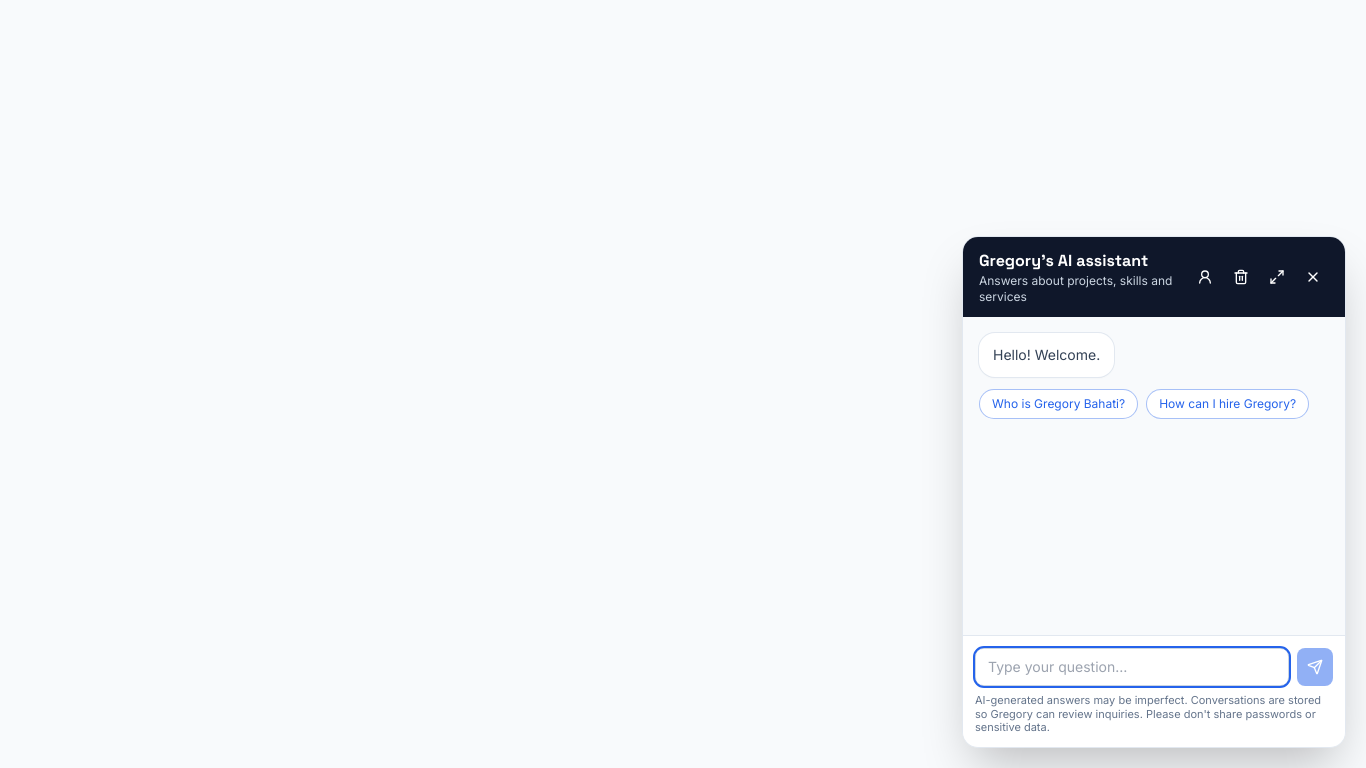
Test: submits an inquiry linked to the chat session and shows the backend reference
Earlier steps of the test are not shown.
Type "I need a system" into the field named "your message" at (1132, 667), box [975, 648, 1289, 686]
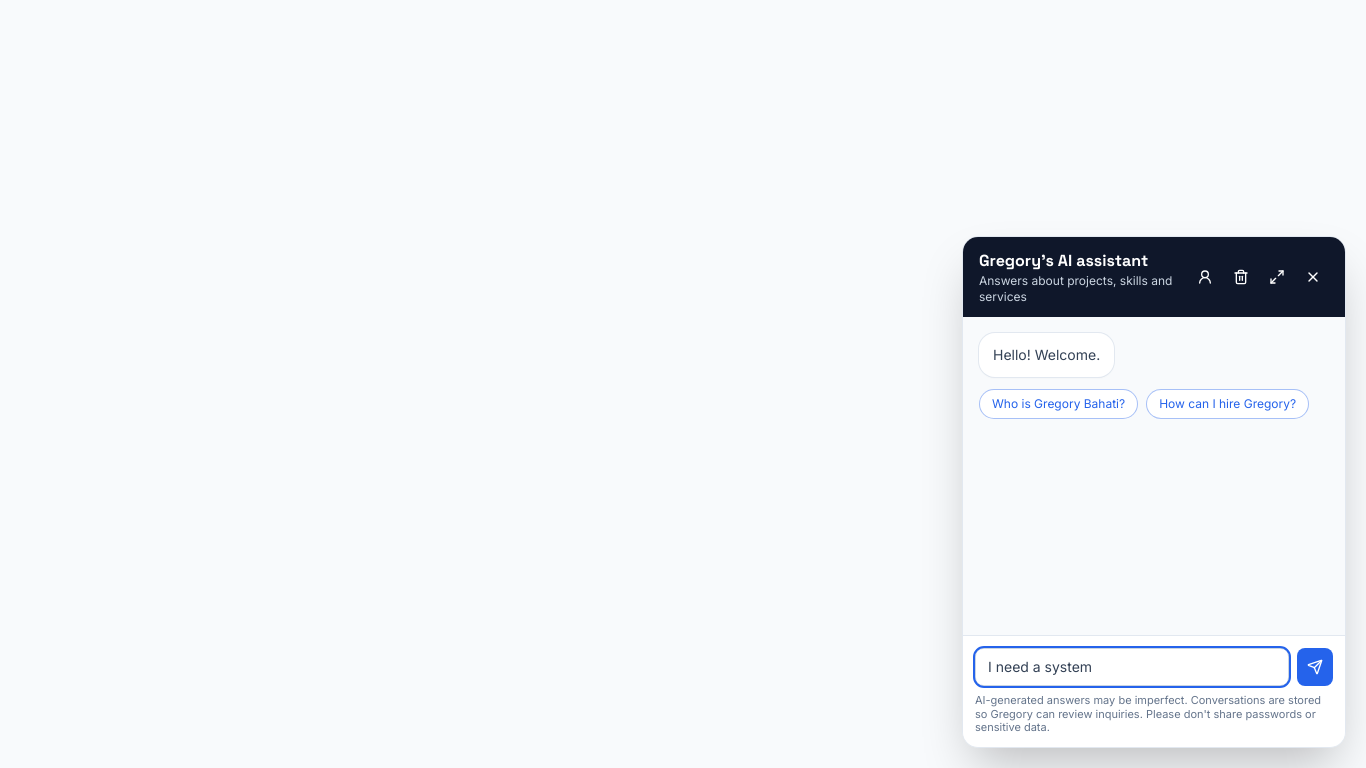
Click the button named "send message" at (1315, 667), box [1297, 648, 1333, 686]
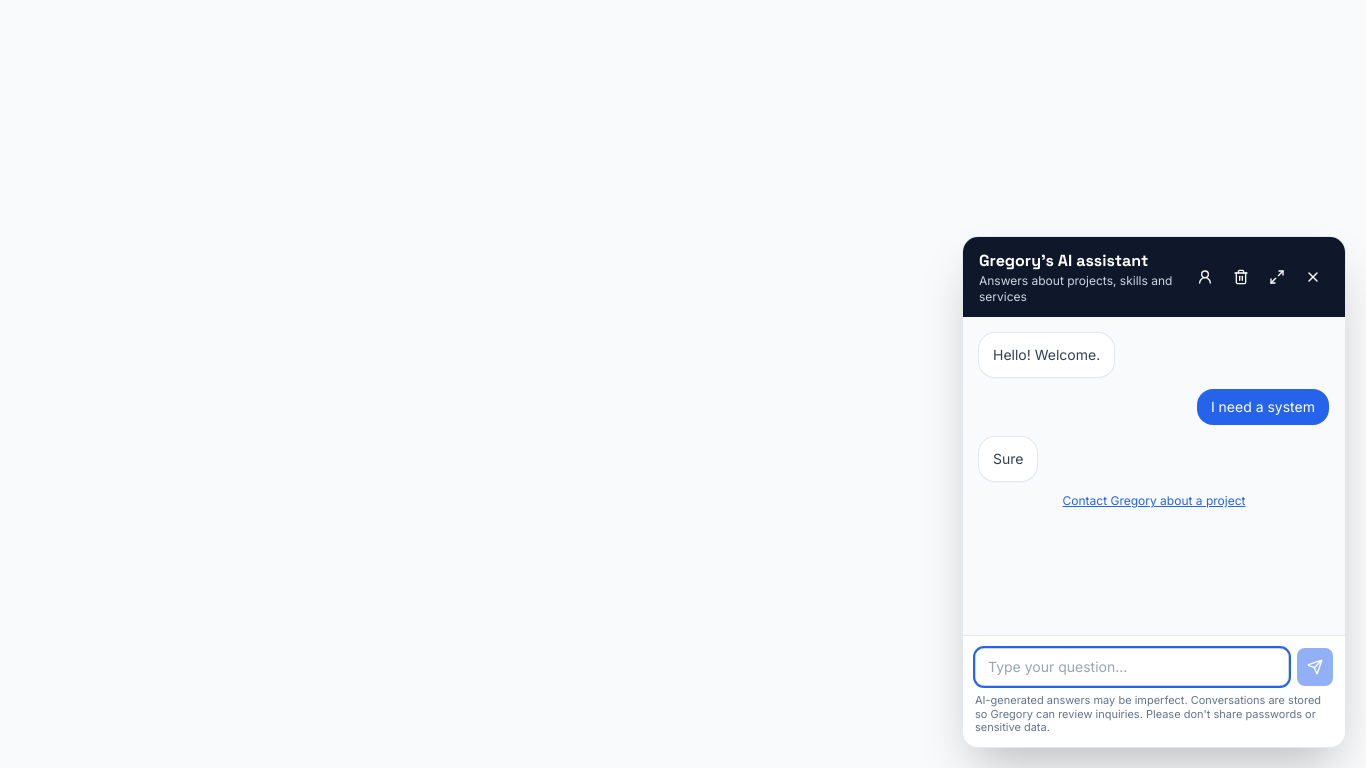
Expected: the text "Sure" is shown, [993, 449, 1024, 469]
Click the button named "contact gregory" at (1205, 277), box [1189, 261, 1221, 293]
(page scrolled)
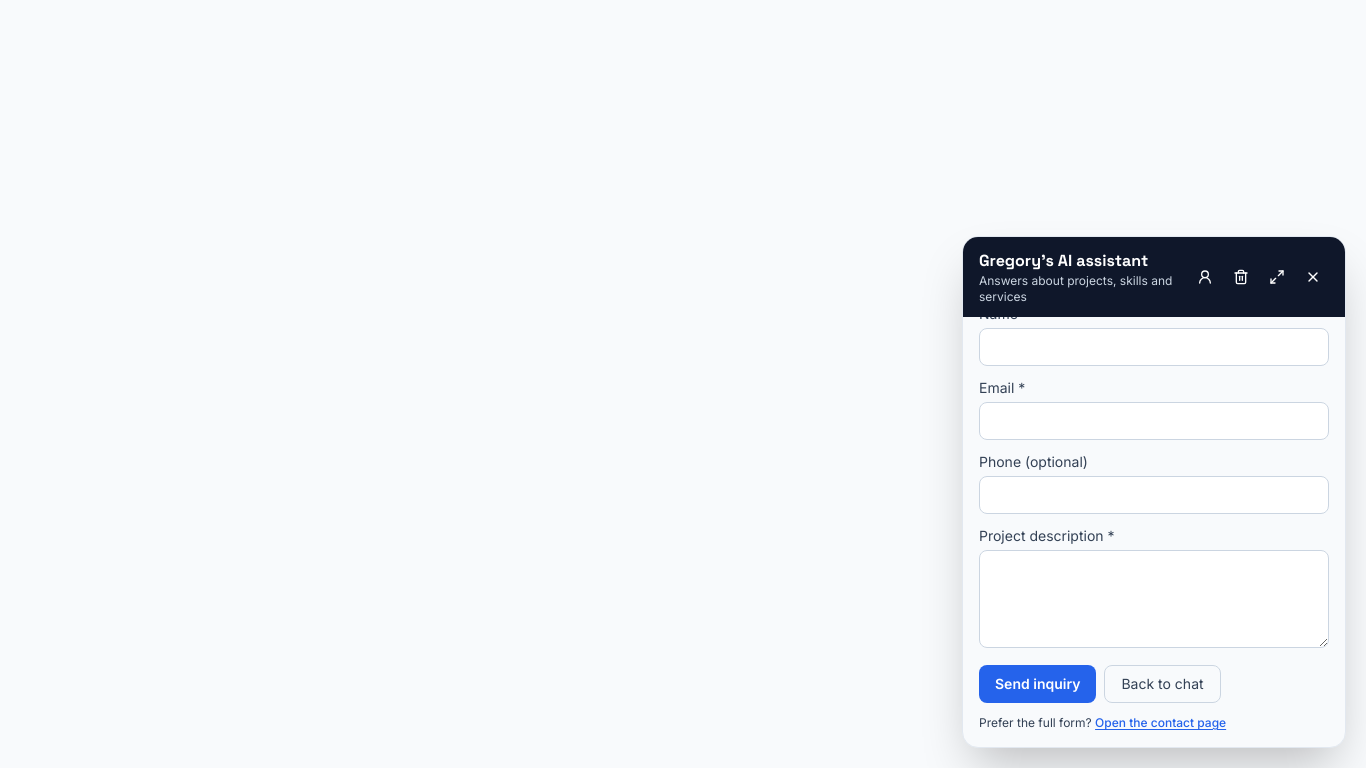
Click the button "Send inquiry" at (1038, 684), box [979, 665, 1096, 703]
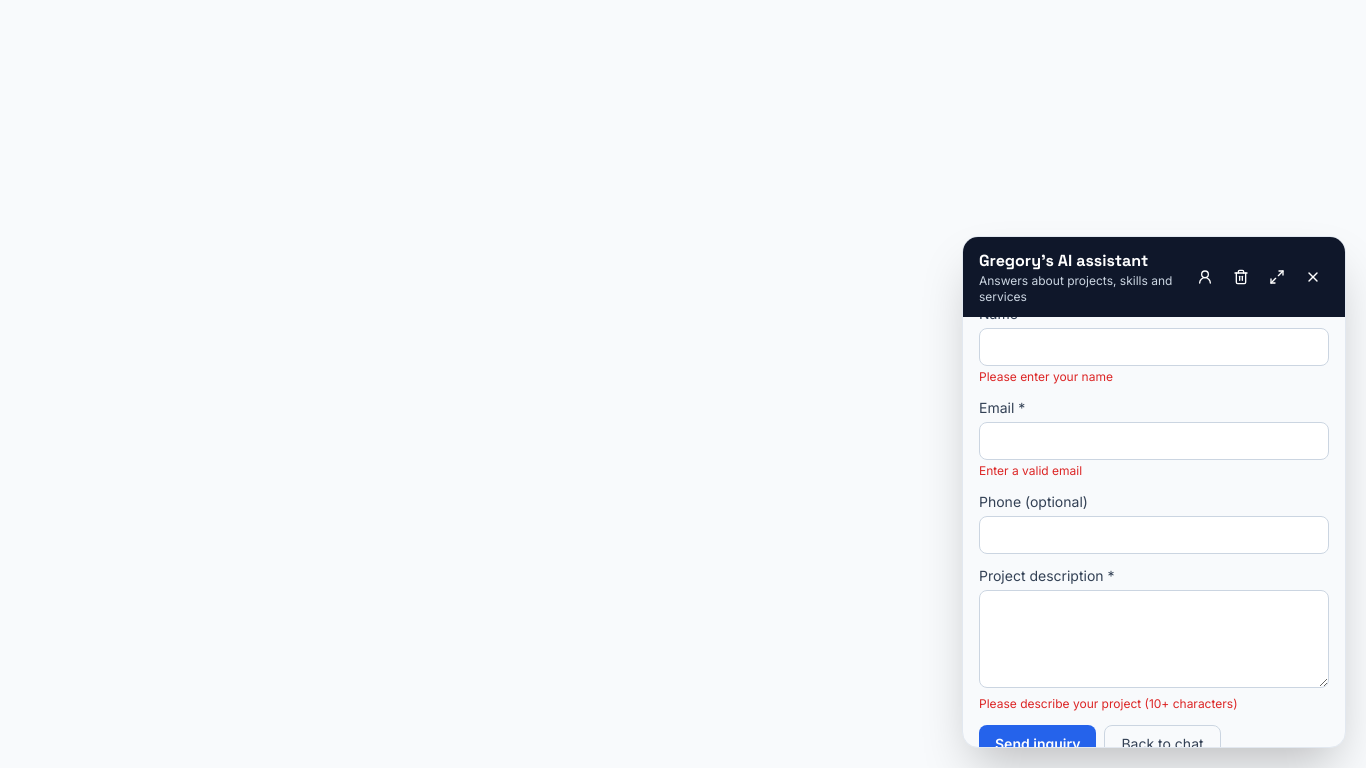
Expected: the text "Please enter your name" is shown, [979, 369, 1113, 384]
Type "Amina Juma" into the field labelled "Name * Please enter your name" at (1154, 347), box [979, 328, 1329, 366]
Type "a@example.com" into the field labelled "Email * Enter a valid email" at (1154, 441), box [979, 422, 1329, 460]
Type "Inventory system for my shop" into the text box labelled "Project description" at (1154, 639), box [979, 590, 1329, 688]
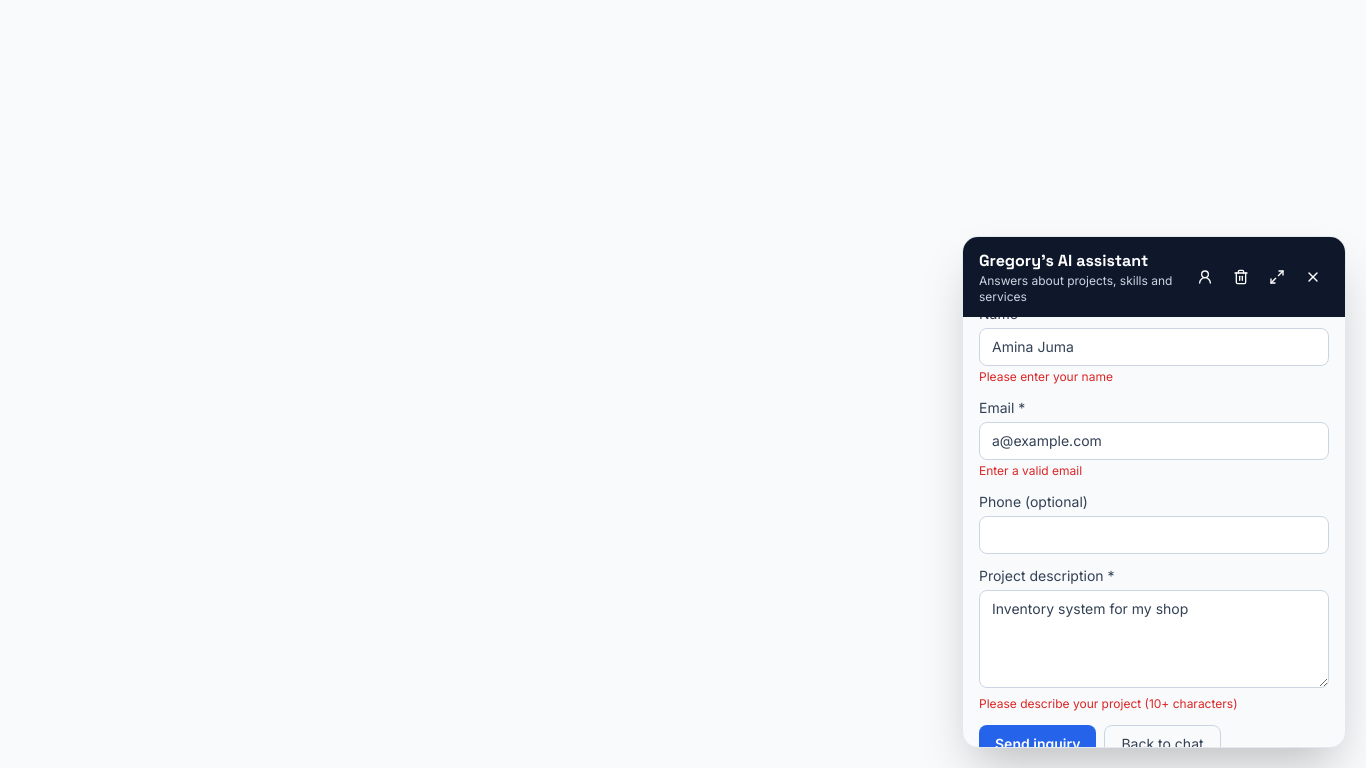
Click the button "Send inquiry" at (1038, 744), box [979, 725, 1096, 763]
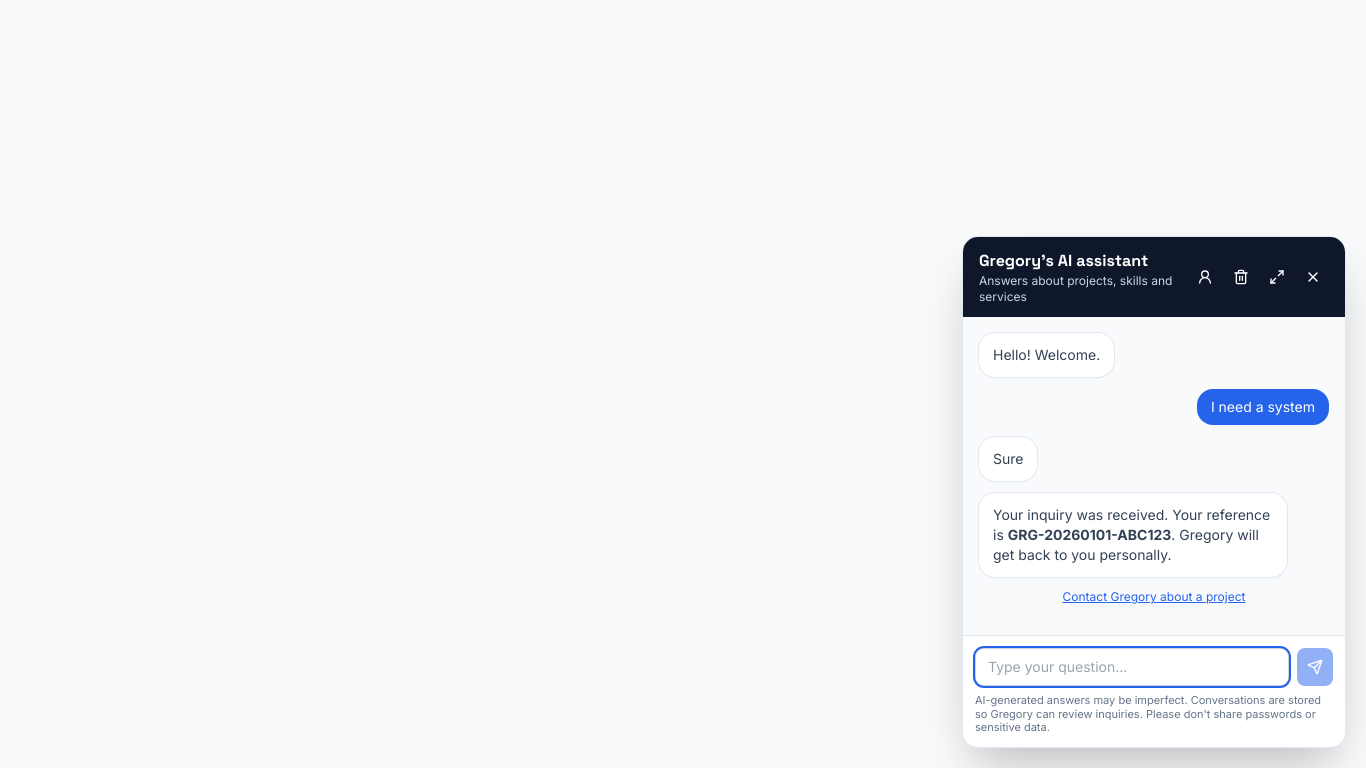
Expected: the text "GRG-20260101-ABC123" is shown, [1008, 526, 1171, 543]
